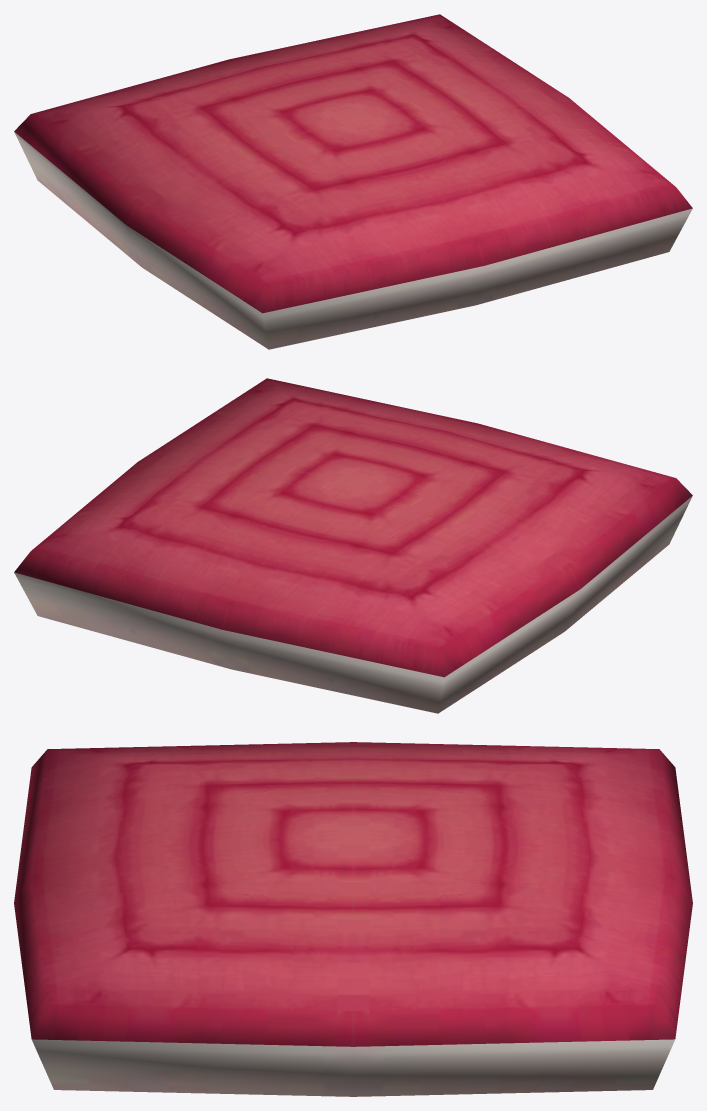
The model's file is my_gamedevdept_01_cushion_01.glb.
The picture shows the model from 3 angles, top to bottom: view 1: azimuth 30°, elevation 25°; view 2: azimuth 150°, elevation 25°; view 3: azimuth 270°, elevation 25°; orthographic projection. The views are drawn at different scales.
Visible parts, largest first — view 1: my_gamedevdept_01_cushion_01; view 2: my_gamedevdept_01_cushion_01; view 3: my_gamedevdept_01_cushion_01.
Part boxes in pixels (left/top/right/bottom): my_gamedevdept_01_cushion_01: left=14, top=14, right=692, bottom=349; my_gamedevdept_01_cushion_01: left=14, top=378, right=692, bottom=713; my_gamedevdept_01_cushion_01: left=14, top=742, right=692, bottom=1096.
Bounding box in the file's own units: 0.00379 × 0.0008 × 0.00379.
1 material, 1 textured.
